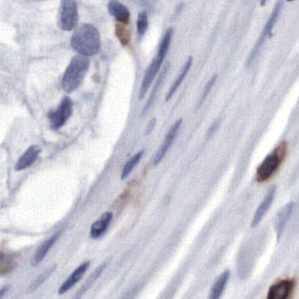Lymphocyte: (255, 142, 287, 186)
